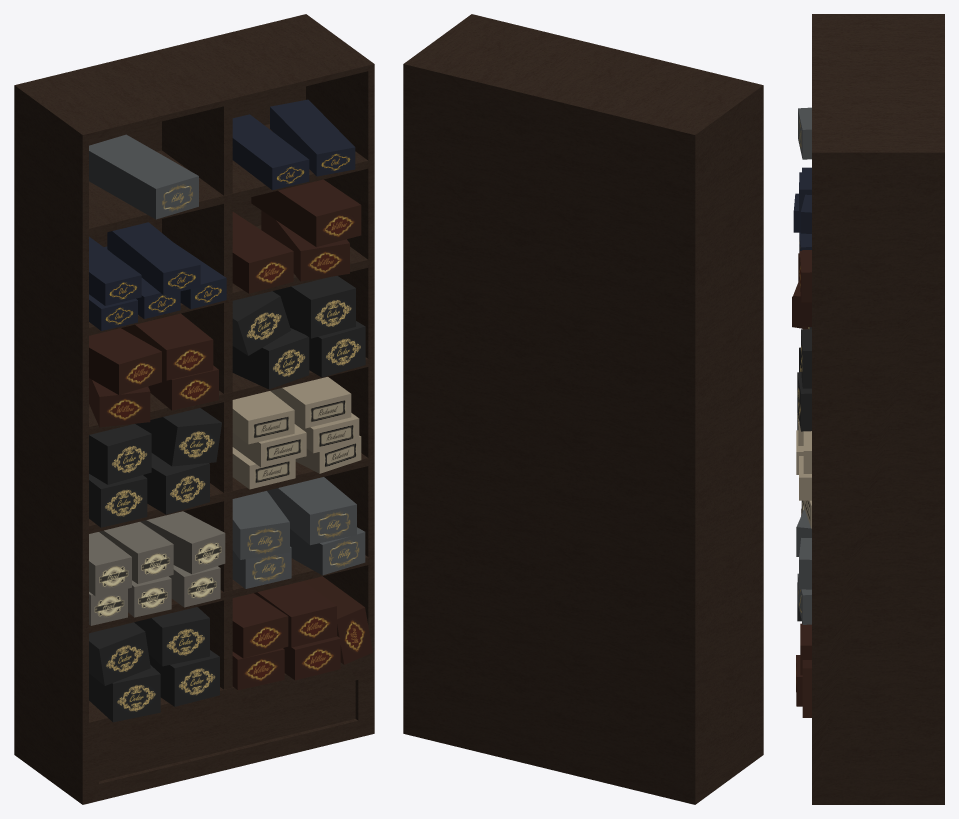
The model's file is shelfThinWithWands1.glb.
The picture shows the model from 3 angles, left to right: view 1: azimuth 30°, elevation 25°; view 2: azimuth 150°, elevation 25°; view 3: azimuth 270°, elevation 25°; orthographic projection. The views are drawn at different scales.
Parts seen in each view (by area): view 1: ShelfWithWandsThin1; view 2: ShelfWithWandsThin1; view 3: ShelfWithWandsThin1.
Boxes of the visible parts, <box> form: ShelfWithWandsThin1: <box>14,14,374,804</box>; ShelfWithWandsThin1: <box>403,14,763,804</box>; ShelfWithWandsThin1: <box>792,14,944,804</box>.
Size of what is drawn, in the model's own units: 2.44 by 5.35 by 1.14.
2 materials, 2 textured.
